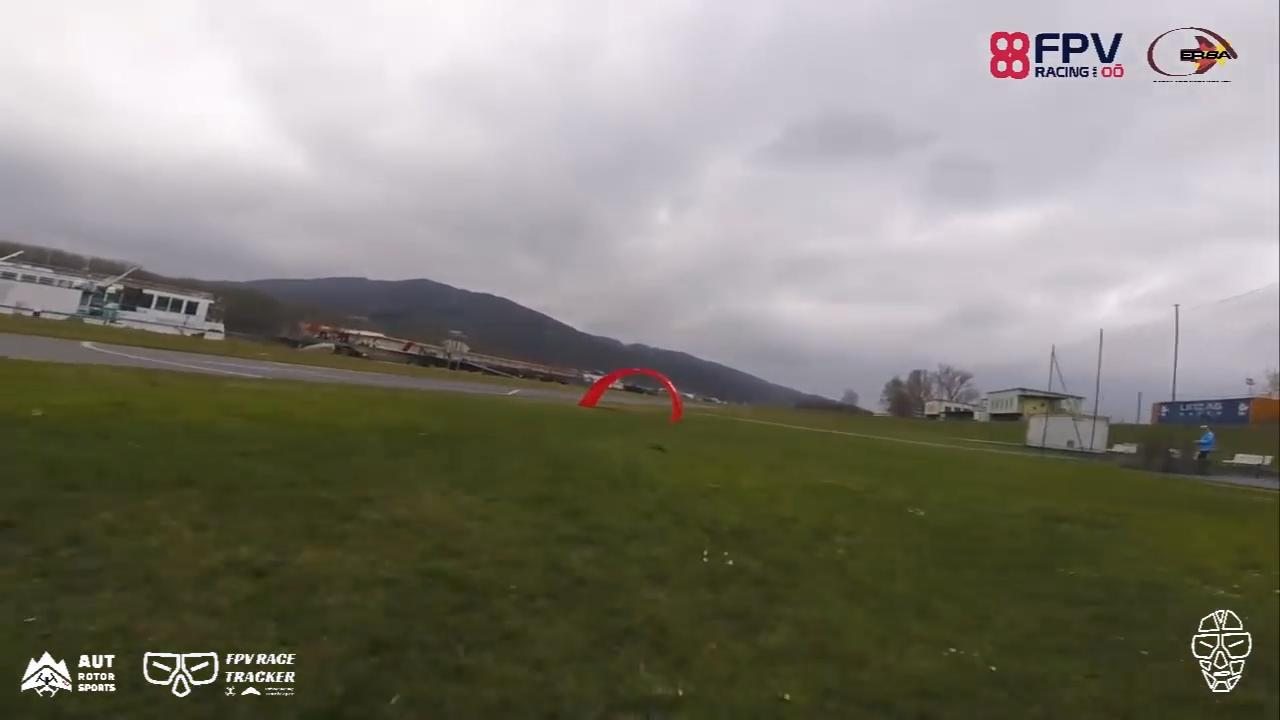gate: (575, 364, 682, 425)
